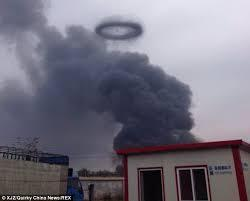smoke: (0, 0, 200, 171)
